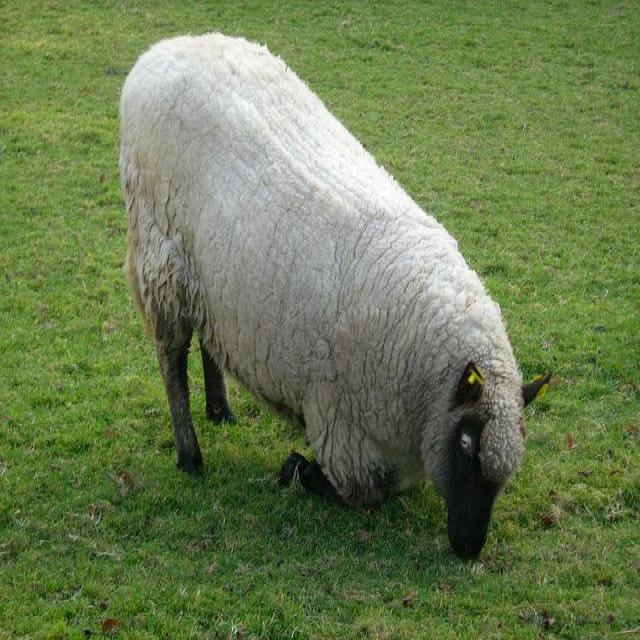Sheep: (115, 22, 564, 562)
